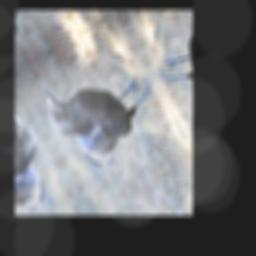Crow: (38, 42, 176, 188)
